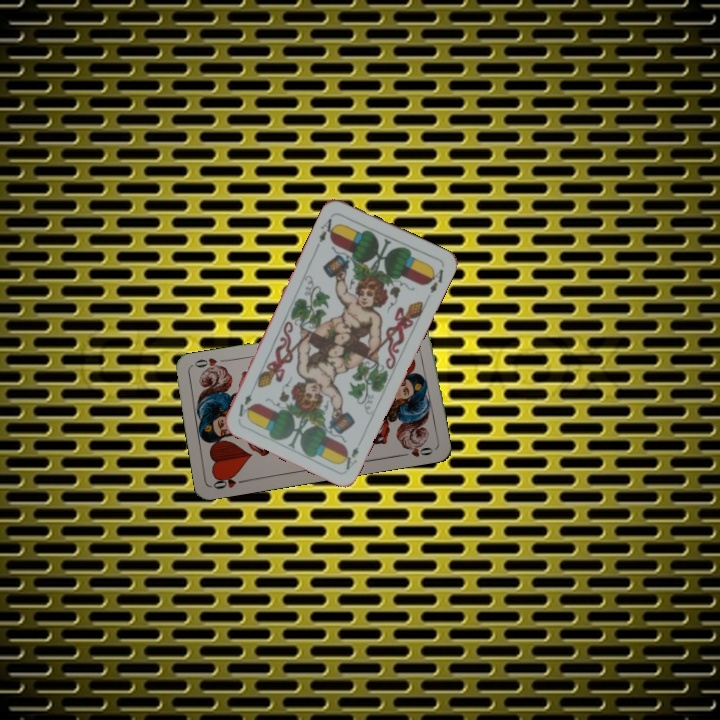EA: (312, 214, 339, 250), (338, 442, 361, 473)
HO: (209, 471, 249, 492)
